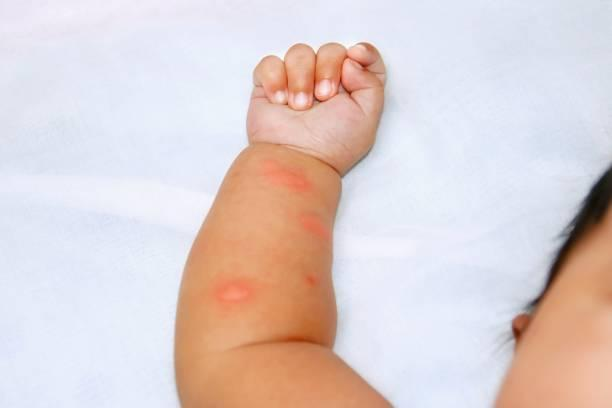Gnat-bites: (247, 152, 321, 200), (207, 270, 255, 323), (297, 198, 334, 252), (292, 257, 332, 303)
